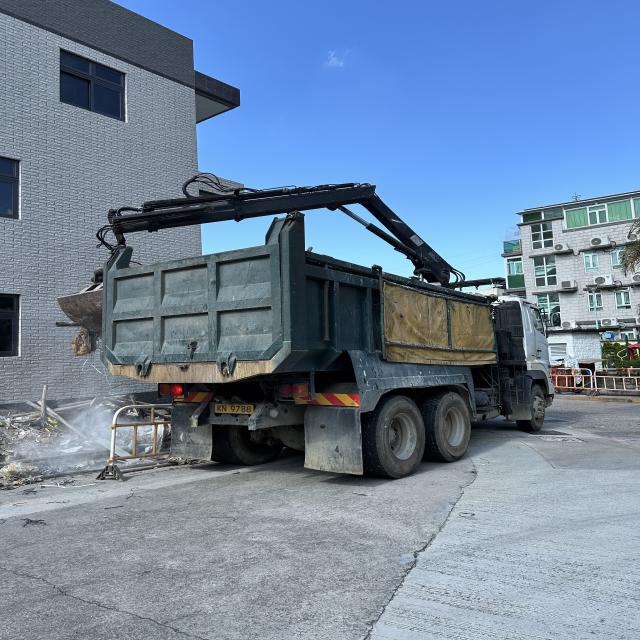machinery: (63, 168, 579, 477)
